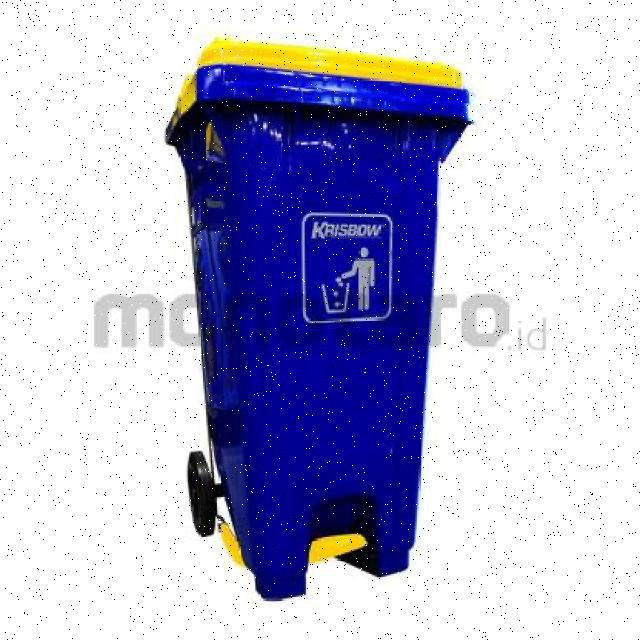garbage container: (146, 33, 499, 612)
